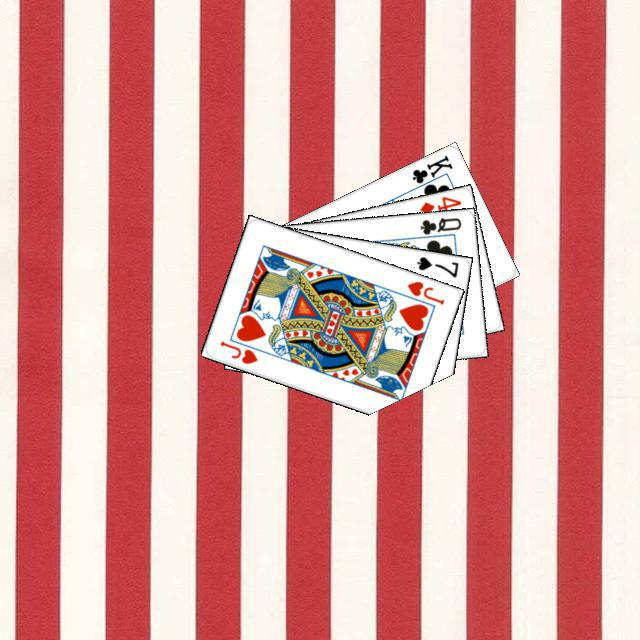4d: (415, 192, 463, 216)
7s: (412, 252, 460, 279)
Jh: (402, 276, 446, 306), (215, 336, 259, 366)
Kc: (407, 150, 454, 192)
Qc: (412, 213, 463, 240)
